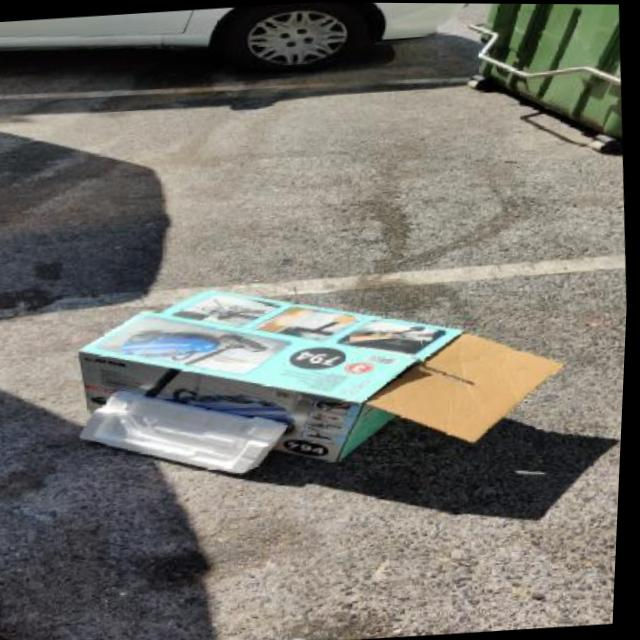cardboard: (67, 261, 575, 482)
other: (71, 377, 294, 485)
